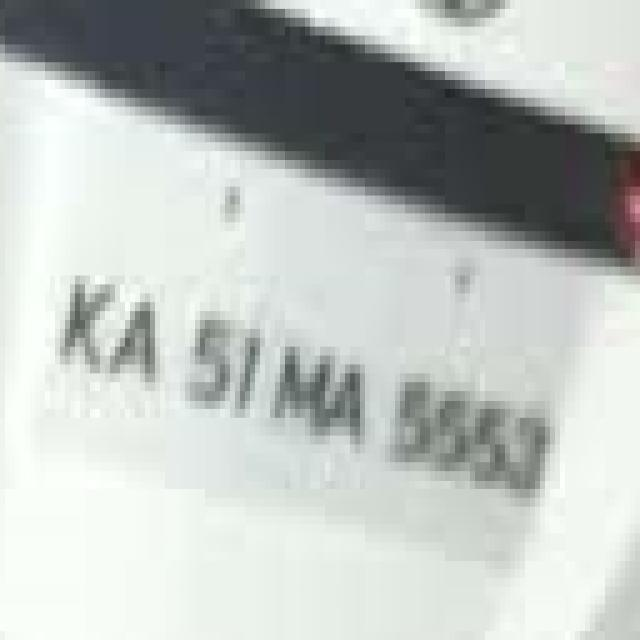1: (228, 315, 268, 427)
3: (503, 398, 556, 507)
5: (176, 297, 244, 421), (389, 361, 444, 472), (427, 373, 478, 483), (469, 388, 515, 490)
A: (103, 270, 171, 389), (319, 342, 377, 450)
K: (51, 256, 121, 380)
M: (265, 324, 339, 433)
